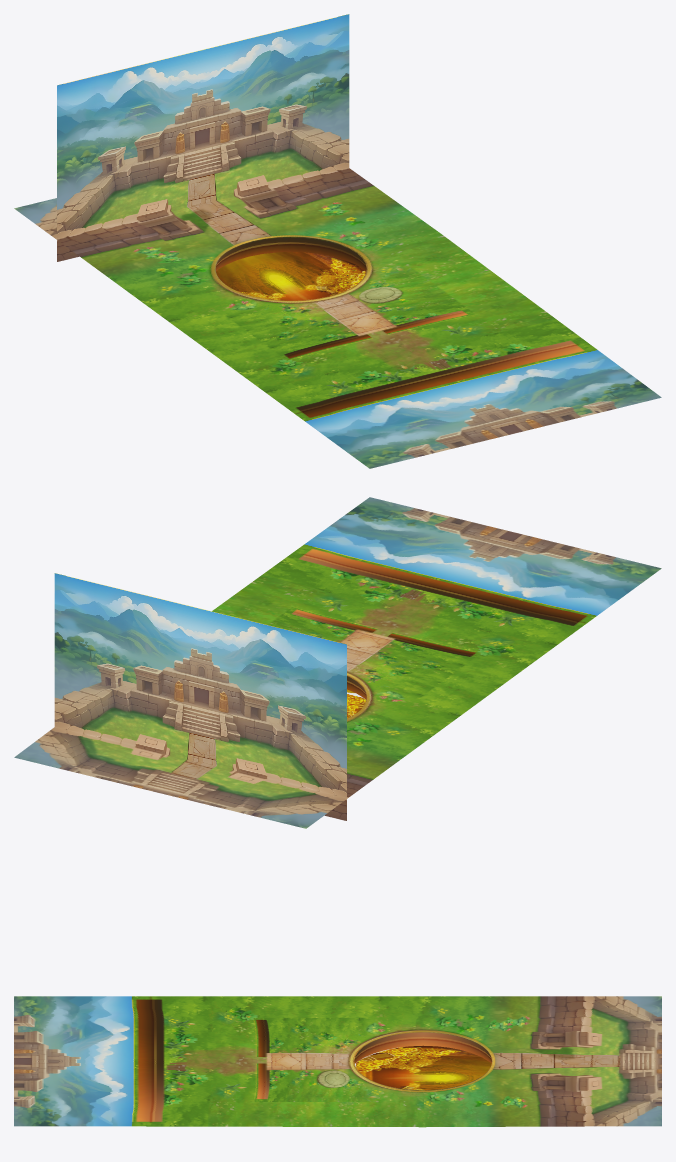
File: floor.FBX
The picture shows the model from 3 angles, top to bottom: view 1: azimuth 30°, elevation 25°; view 2: azimuth 150°, elevation 25°; view 3: azimuth 270°, elevation 25°; orthographic projection. The views are drawn at different scales.
Visible parts, largest first — view 1: floor; view 2: floor; view 3: floor.
Part boxes in pixels (x1=…): floor: x1=14, y1=14, x2=661, y2=468; floor: x1=14, y1=497, x2=661, y2=828; floor: x1=14, y1=996, x2=661, y2=1127.
Bounding box in the file's own units: 64.49 × 37 × 135.
